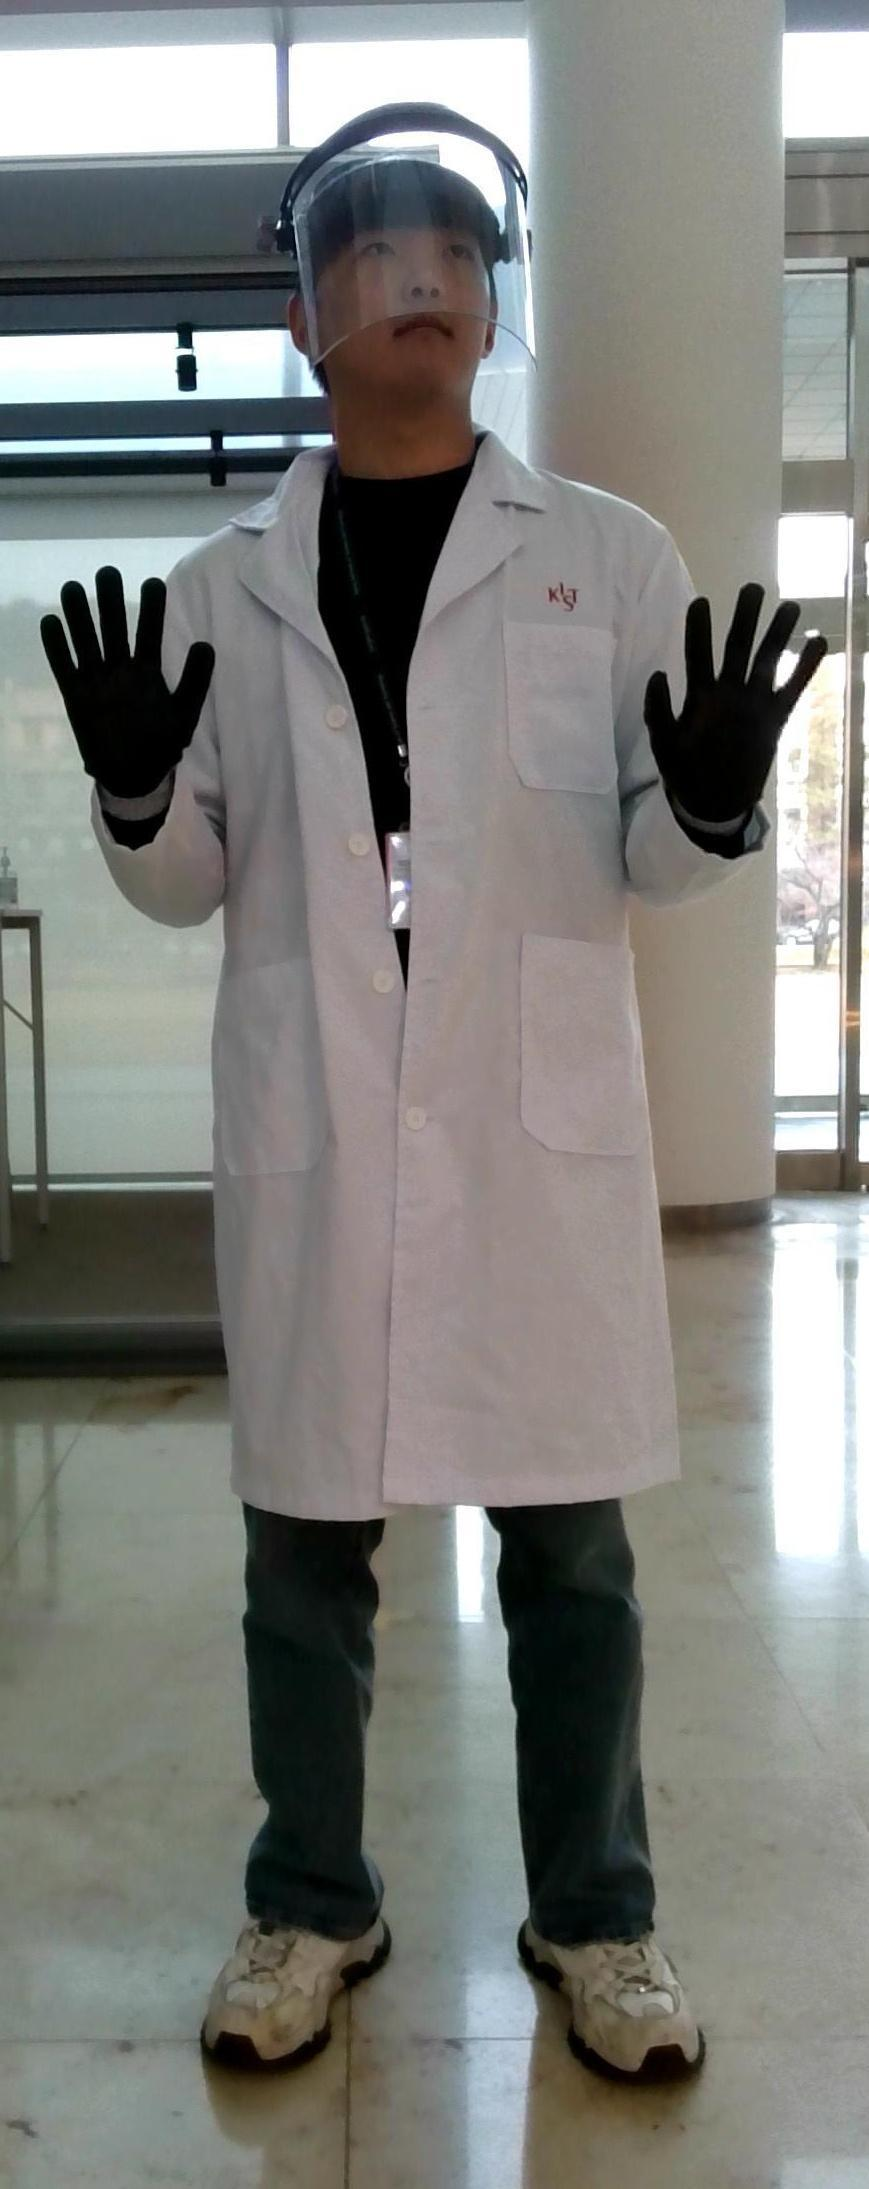lab_coat: (217, 486, 661, 1512)
